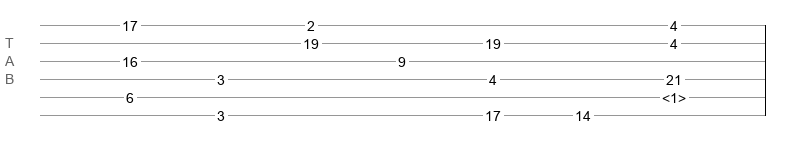14: (575, 108, 591, 118)
16: (122, 54, 138, 64)
17: (122, 18, 138, 28), (485, 108, 501, 118)
19: (303, 36, 319, 46), (485, 36, 501, 46)
2: (307, 18, 315, 28)
21: (666, 72, 682, 82)
3: (217, 108, 225, 118), (217, 72, 225, 82)
4: (489, 72, 497, 82), (670, 18, 678, 28), (670, 36, 678, 46)
6: (126, 90, 134, 100)
9: (398, 54, 406, 64)
harmonic: (662, 90, 686, 100)
